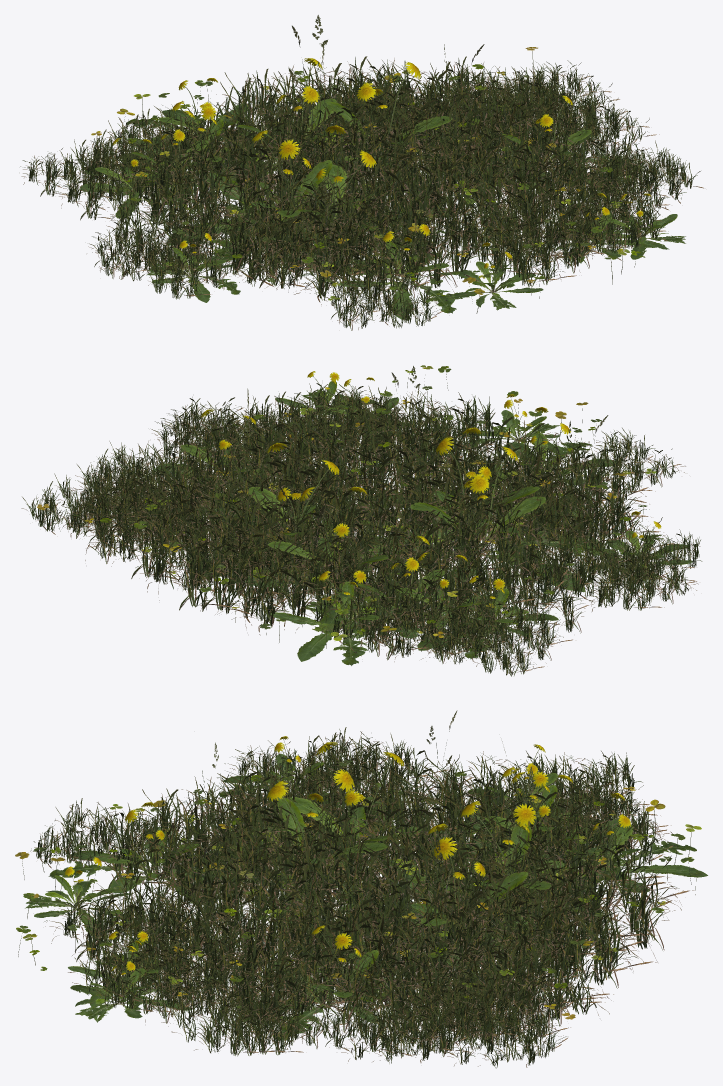
The model's file is Grass.fbx.
3 views of the same model, one above another, from view 1: azimuth 30°, elevation 25°; view 2: azimuth 150°, elevation 25°; view 3: azimuth 270°, elevation 25° (orthographic). The views are drawn at different scales.
Parts seen in each view (by area): view 1: Cloner; view 2: Cloner; view 3: Cloner.
Boxes of the visible parts, box(x1,y1,x2,y2) form: Cloner: box(20, 15, 703, 330); Cloner: box(21, 365, 702, 676); Cloner: box(15, 710, 707, 1068).
Bounding box in the file's own units: 288 × 69.18 × 253.
4 materials, 4 textured.
